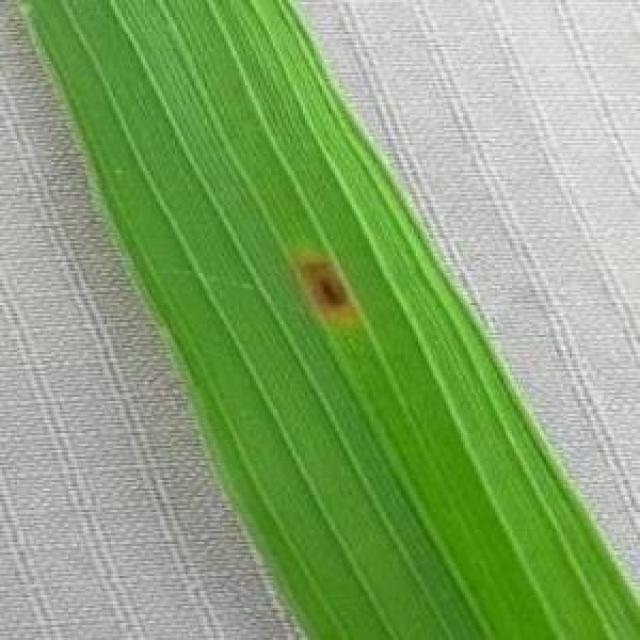Brown_Spot: (268, 236, 377, 337)
